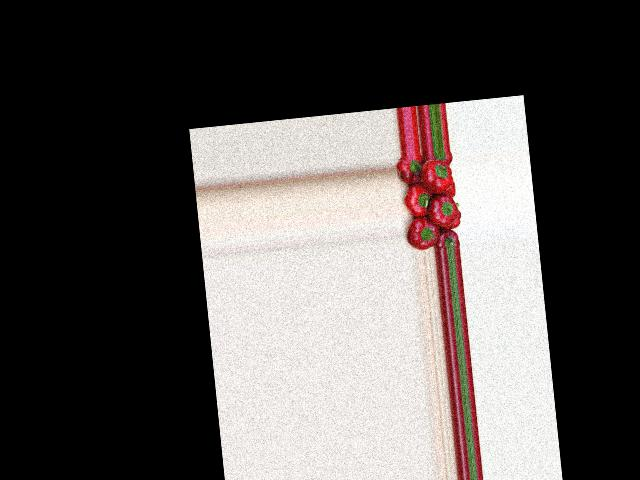bell_pepper: (443, 183, 458, 198)
